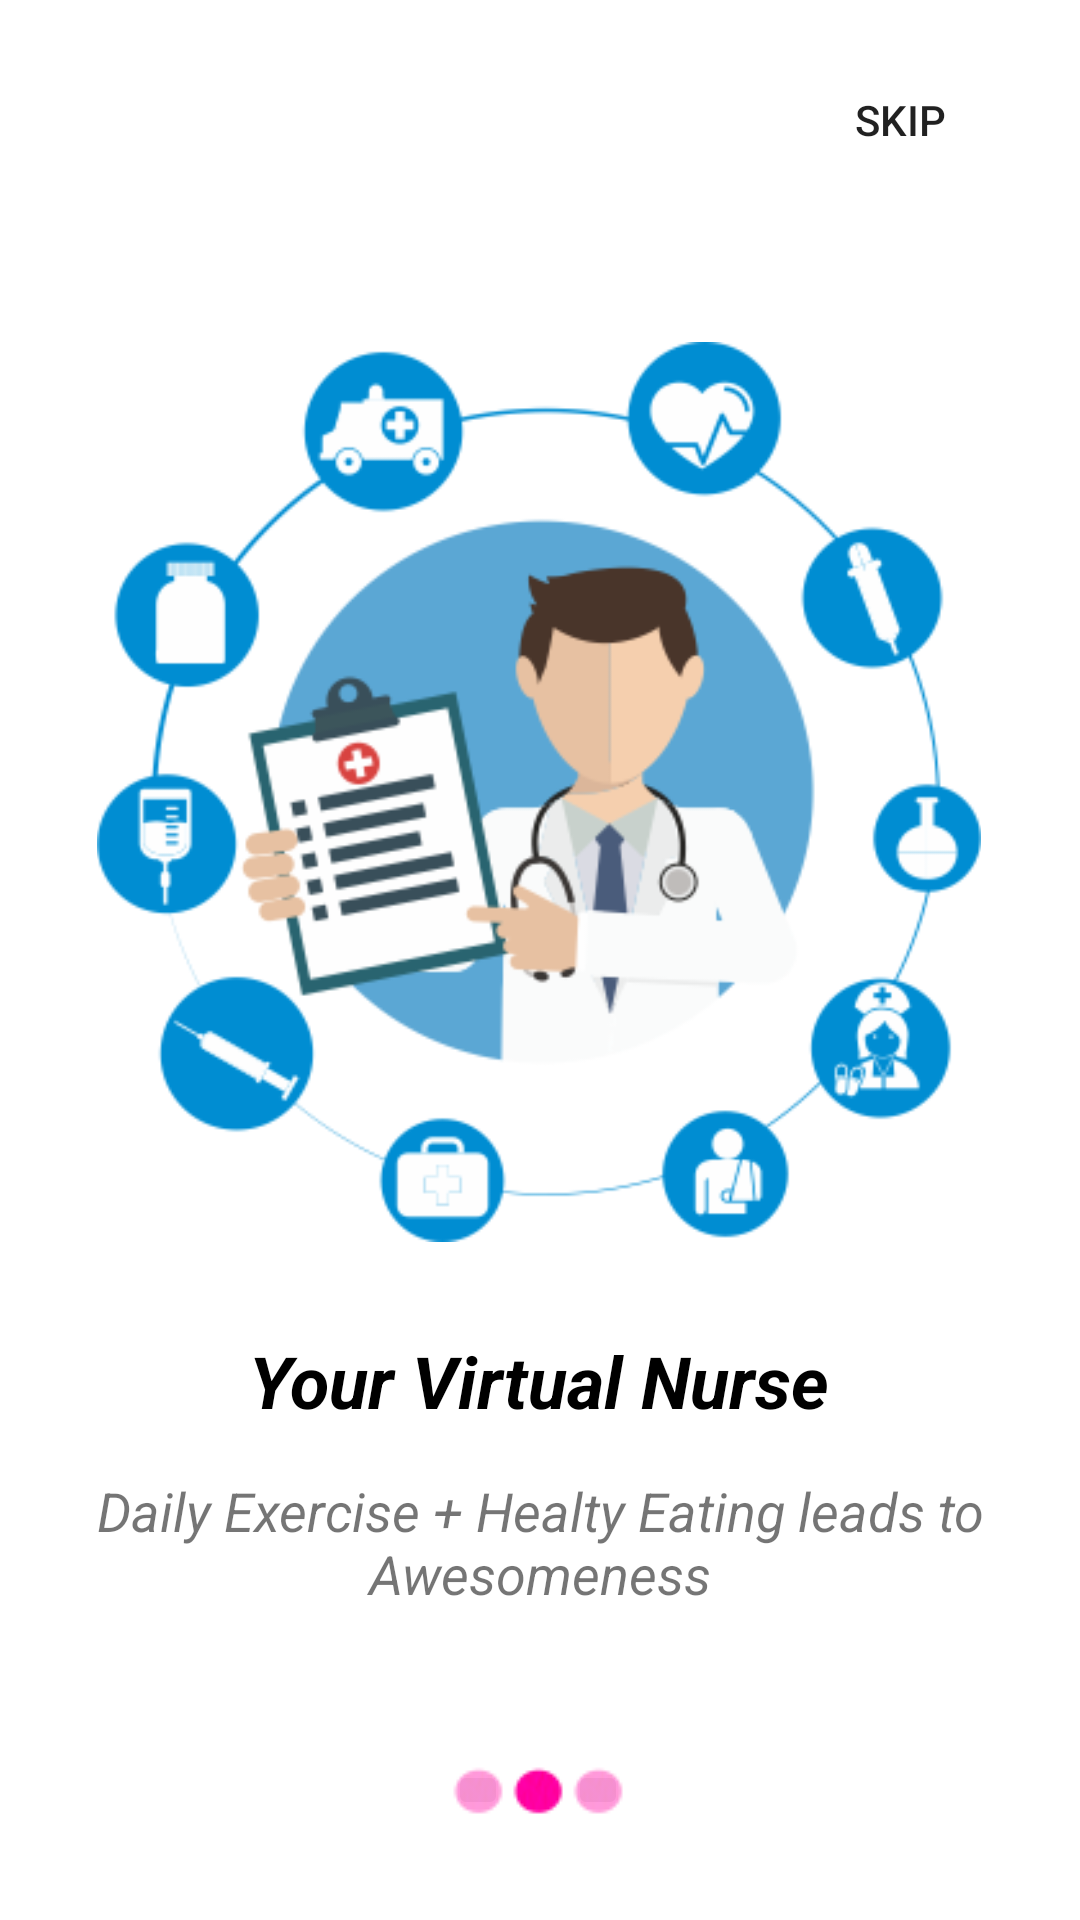

Screen size 1080×1920. Icon name, then its box in pixels as (x1, y1, x2, y2):
dot: (513, 1768, 563, 1814), (454, 1769, 503, 1814), (574, 1769, 623, 1814)
